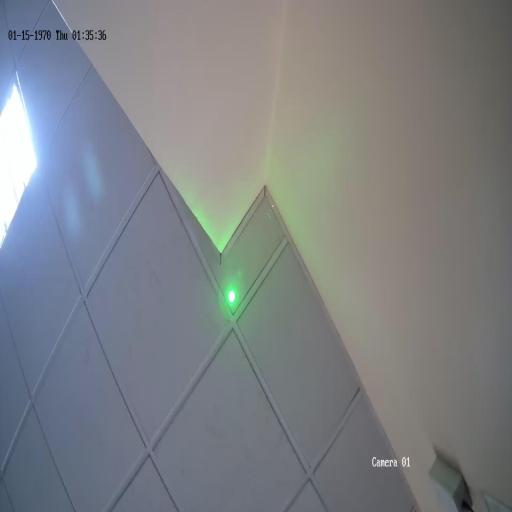laser: (226, 287, 236, 306)
